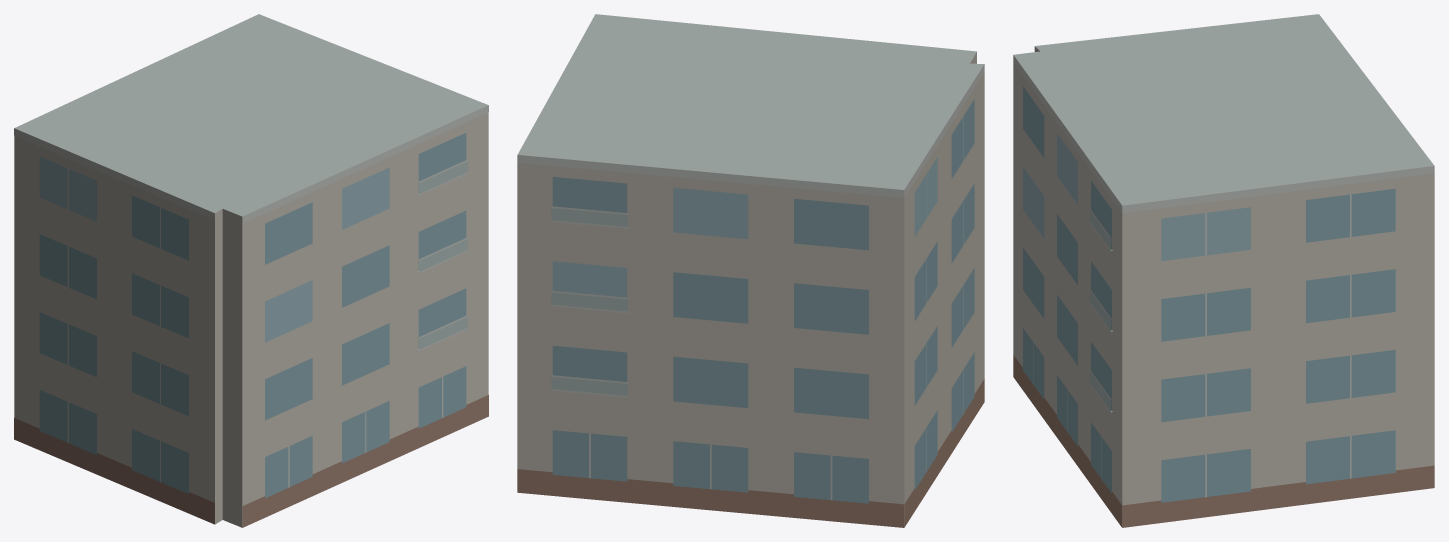
File: survey-upis-32965519.glb
The picture shows the model from 3 angles, left to right: view 1: azimuth 30°, elevation 25°; view 2: azimuth 150°, elevation 25°; view 3: azimuth 270°, elevation 25°; orthographic projection. The views are drawn at different scales.
Parts seen in each view (by area): view 1: survey-upis-32965519.tmp; view 2: survey-upis-32965519.tmp; view 3: survey-upis-32965519.tmp.
Part boxes in pixels (box(x1,y1,x2,y2)): survey-upis-32965519.tmp: box(14, 14, 488, 527); survey-upis-32965519.tmp: box(517, 14, 984, 527); survey-upis-32965519.tmp: box(1013, 14, 1434, 527).
Bounding box in the file's own units: 13.28 × 10.4 × 12.33.
